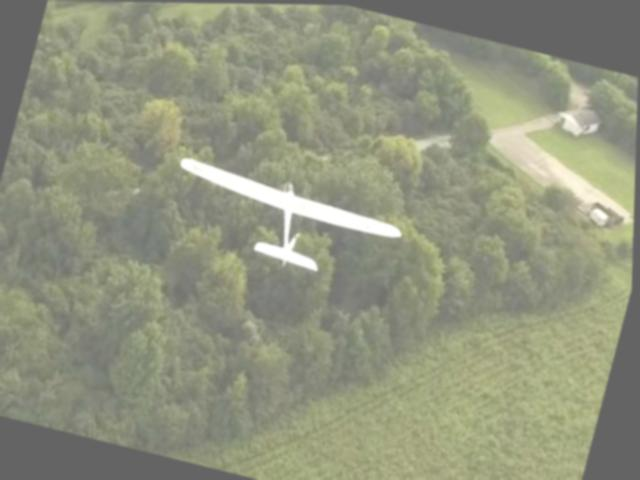uav: (156, 138, 418, 297)
